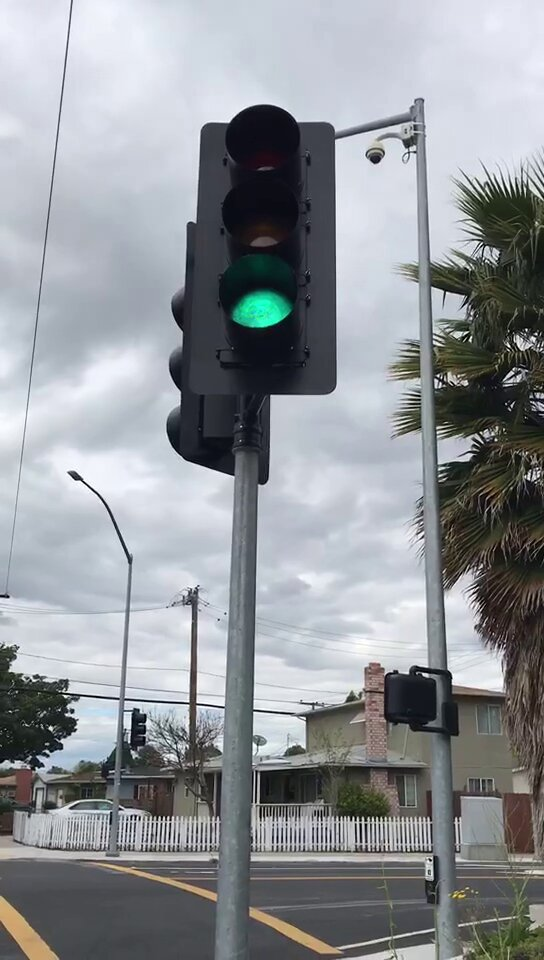green_light: (202, 125, 336, 392)
